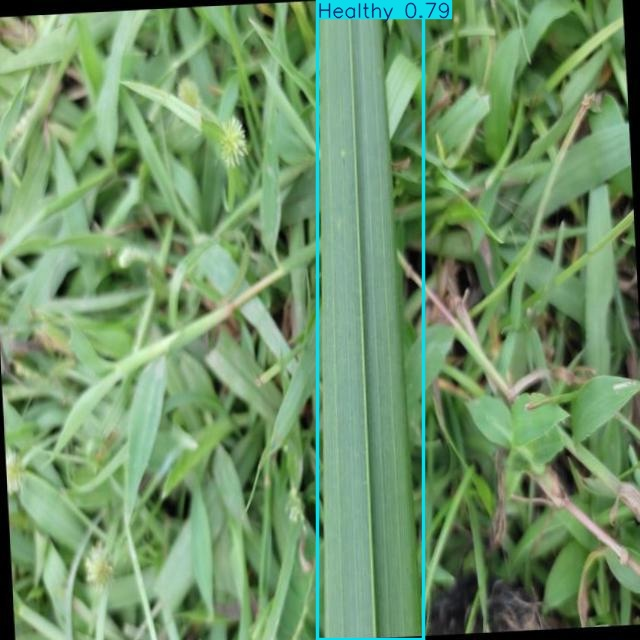Healthy: (317, 0, 424, 639)
